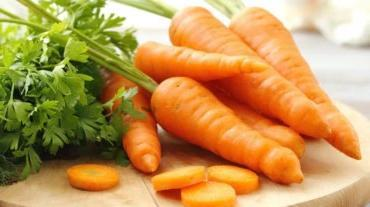carrot: (117, 30, 360, 182), (161, 4, 364, 176), (108, 46, 168, 170)
